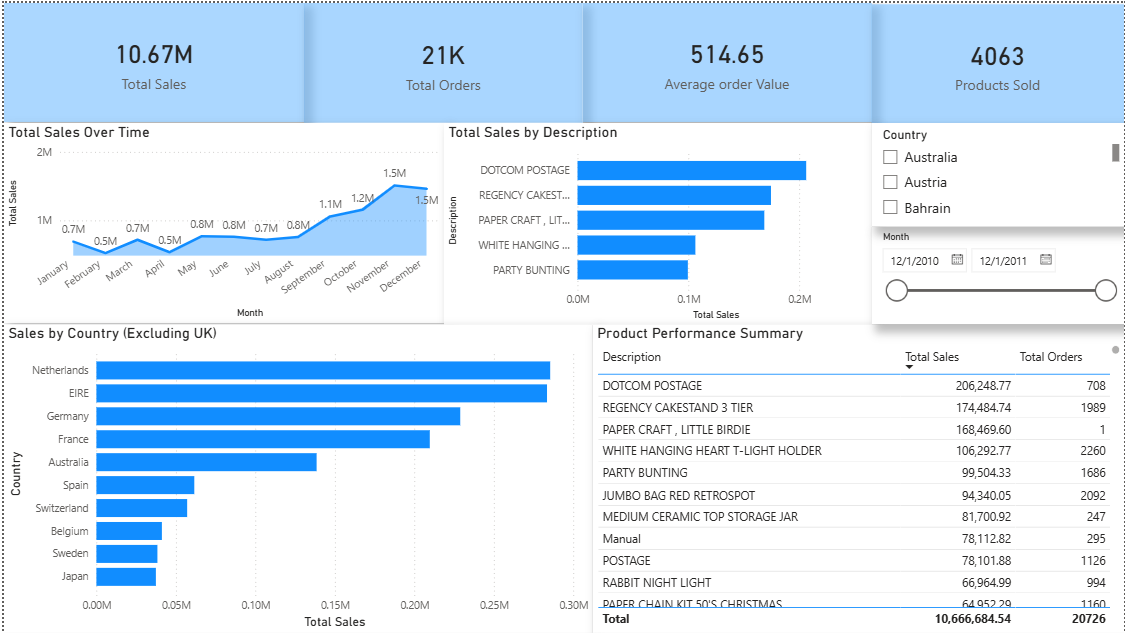

The page's visual inventory and layout, read from the dashboard file:
{"tool":"powerbi","page":{"name":"Bussiness_Performance_Dashboard","canvas":[1280,720],"ordinal":0},"visuals":[{"type":"card","fields":{"Values":["Table1.Total Sales"]},"box":[0,0,342.9,135.7],"z":0},{"type":"card","fields":{"Values":["Table1.Total Orders"]},"box":[342.9,0,318.6,137.1],"z":1000},{"type":"card","fields":{"Values":["Table1.Average order Value"]},"box":[661.4,0,330,135.7],"z":2000},{"type":"card","fields":{"Values":["Table1.Products Sold"]},"box":[991.4,1.4,288.6,135.7],"z":3000},{"type":"lineChart","title":"Total Sales Over Time","fields":{"Category":["Table1.Month.Variation.Date Hierarchy.Month"],"Y":["Table1.Total Sales"]},"box":[0,137.1,502.9,228.6],"z":4000},{"type":"clusteredBarChart","fields":{"Category":["Table1.Description"],"Y":["Table1.Total Sales"]},"box":[502.9,137.1,488.6,230],"z":5000},{"type":"clusteredBarChart","title":"Sales by Country (Excluding UK)","fields":{"Category":["Table1.Country"],"Y":["Table1.Total Sales"]},"box":[0,367.1,672.9,352.9],"z":6000},{"type":"tableEx","title":"Product Performance Summary","fields":{"Values":["Table1.Description","Table1.Total Sales","Table1.Total Orders"]},"box":[672.9,367.1,607.1,352.9],"z":7000},{"type":"slicer","fields":{"Values":["Table1.Month"]},"box":[991.4,255.7,288.6,111.4],"z":8000},{"type":"slicer","fields":{"Values":["Table1.Country"]},"box":[991.4,137.1,288.6,118.6],"z":9000}]}

Visuals, with their boxes in screenshot pixels (x1, y1, x2, y2), scaled from the page's 1280x720 canvas onto the 1125x633 screenshot:
card - Table1.Total Sales: box(0, 0, 301, 119)
card - Table1.Total Orders: box(301, 0, 581, 121)
card - Table1.Average order Value: box(581, 0, 871, 119)
card - Table1.Products Sold: box(871, 1, 1124, 121)
"Total Sales Over Time" lineChart: box(0, 121, 442, 322)
clusteredBarChart - Table1.Description x Table1.Total Sales: box(442, 121, 871, 323)
"Sales by Country (Excluding UK)" clusteredBarChart: box(0, 323, 591, 632)
"Product Performance Summary" tableEx: box(591, 323, 1124, 632)
slicer - Table1.Month: box(871, 225, 1124, 323)
slicer - Table1.Country: box(871, 121, 1124, 225)
